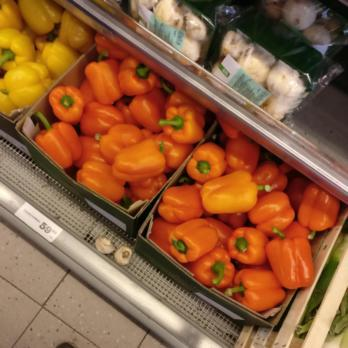Capsicum: (192, 117, 262, 284), (72, 29, 133, 192), (2, 0, 74, 111), (265, 169, 317, 300), (138, 66, 185, 206)
